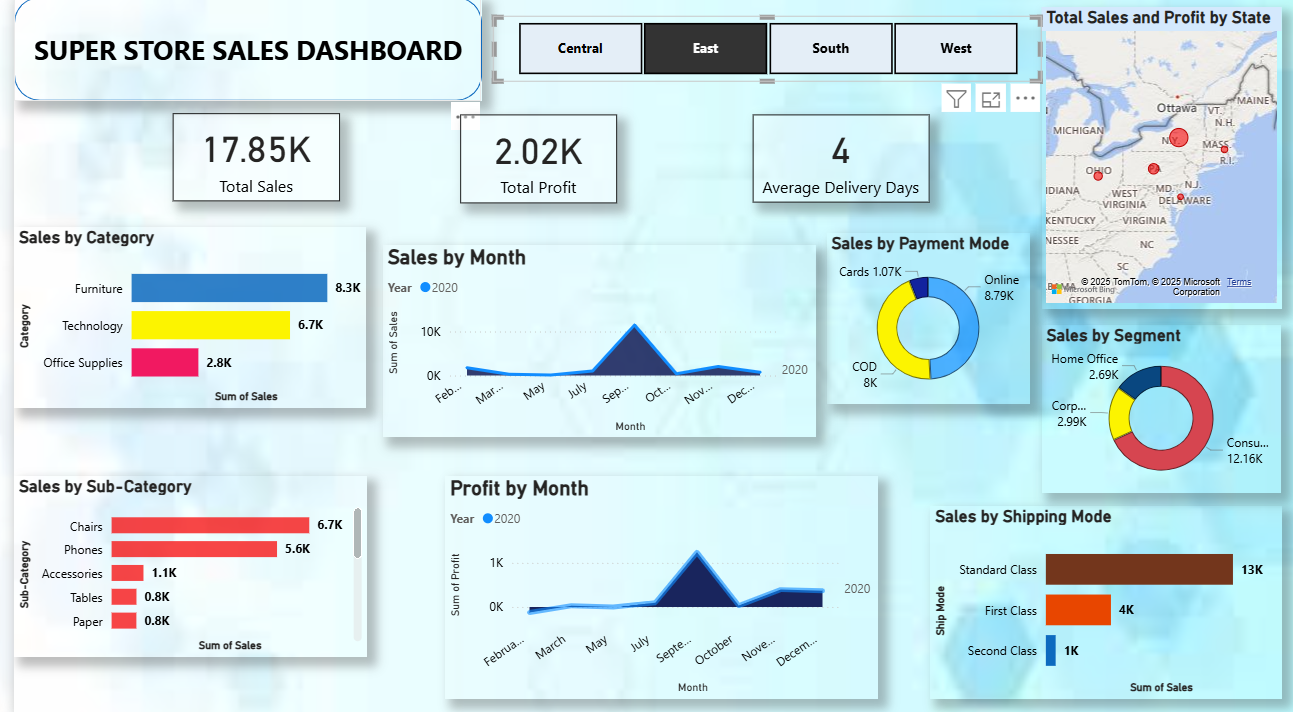

The dashboard page shown, as its layout file describes it:
{"tool":"powerbi","page":{"name":"Dashboard","canvas":[1280,720],"ordinal":0},"visuals":[{"type":"barChart","title":" Sales by Category","fields":{"Category":["Superstore.Category"],"Y":["Sum(Superstore.Sales)"]},"box":[0,230.4,352.3,181],"z":0},{"type":"barChart","title":" Sales by Shipping Mode","fields":{"Category":["Superstore.Ship Mode"],"Y":["Sum(Superstore.Sales)"]},"box":[915.7,509.1,352.3,193],"z":1000},{"type":"stackedAreaChart","title":" Sales by Month ","fields":{"Y":["Sum(Superstore.Sales)"],"Category":["Superstore.Order Date.Variation.Date Hierarchy.Month"],"Series":["Superstore.Order Date.Variation.Date Hierarchy.Year"]},"box":[369.2,247.3,433.1,193],"z":2000},{"type":"stackedAreaChart","title":" Profit by Month ","fields":{"Category":["Superstore.Order Date.Variation.Date Hierarchy.Month"],"Series":["Superstore.Order Date.Variation.Date Hierarchy.Year"],"Y":["Sum(Superstore.Profit)"]},"box":[430.7,479,433.1,223.2],"z":3000},{"type":"donutChart","title":"Sales by Segment","fields":{"Y":["Sum(Superstore.Sales)"],"Category":["Superstore.Segment"]},"box":[1027.9,327.9,239.5,168.6],"z":4000},{"type":"donutChart","title":"Sales by Payment Mode","fields":{"Category":["Superstore.Payment Mode"],"Y":["Sum(Superstore.Sales)"]},"box":[812.8,236,203.5,170.9],"z":5000},{"type":"shape","box":[0,0,468.1,103.8],"z":6000},{"type":"map","title":"Total Sales and Profit by State","fields":{"Category":["Superstore.State"],"Size":["Sum(Superstore.Sales)"]},"box":[1027.9,9.7,240.1,301.6],"z":7000},{"type":"barChart","title":" Sales by Sub-Category","fields":{"Category":["Superstore.Sub-Category"],"Y":["Sum(Superstore.Sales)"]},"box":[0,479.3,352.9,180.5],"z":8000},{"type":"slicer","fields":{"Values":["Superstore.Region"]},"box":[479,19.3,548.9,65.1],"z":9000},{"type":"card","title":"cv ","fields":{"Values":["Sum(Superstore.Sales)"]},"box":[159.3,116.3,167.4,88.4],"z":10000},{"type":"card","title":"cv ","fields":{"Values":["Sum(Superstore.Profit)"]},"box":[446.4,118,157,89.1],"z":11000},{"type":"card","title":"cv ","fields":{"Values":["Avg(Superstore.Avg_ship_day)"]},"box":[738.4,117.4,176.7,88.4],"z":13000}]}

Visuals, with their boxes in screenshot pixels (x1, y1, x2, y2), scaled from the page's 1280x720 canvas onto the 1293x712 screenshot:
" Sales by Category" barChart: [left=0, top=228, right=356, bottom=407]
" Sales by Shipping Mode" barChart: [left=925, top=503, right=1281, bottom=694]
" Sales by Month " stackedAreaChart: [left=373, top=245, right=810, bottom=435]
" Profit by Month " stackedAreaChart: [left=435, top=474, right=873, bottom=694]
"Sales by Segment" donutChart: [left=1038, top=324, right=1280, bottom=491]
"Sales by Payment Mode" donutChart: [left=821, top=233, right=1027, bottom=402]
shape: [left=0, top=0, right=473, bottom=103]
"Total Sales and Profit by State" map: [left=1038, top=10, right=1281, bottom=308]
" Sales by Sub-Category" barChart: [left=0, top=474, right=356, bottom=652]
slicer - Superstore.Region: [left=484, top=19, right=1038, bottom=83]
"cv " card: [left=161, top=115, right=330, bottom=202]
"cv " card: [left=451, top=117, right=610, bottom=205]
"cv " card: [left=746, top=116, right=924, bottom=204]
